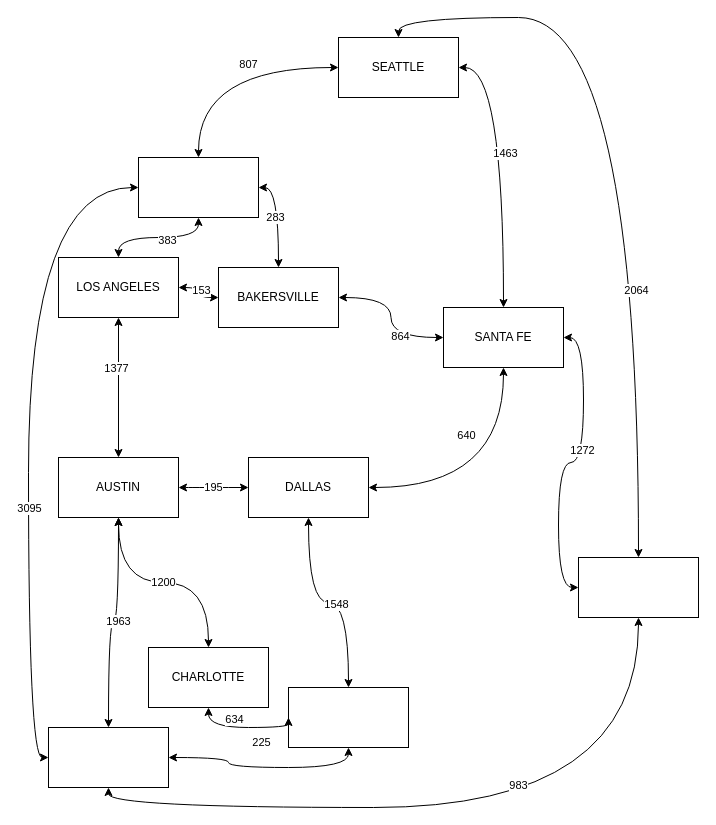
This 716x825 diagram has some shape labels left out. The centre of each missing label's shape, as x and y in pixels:
BOSTON: [108,757]
CHICAGO: [638,587]
NEW YORK: [348,717]
SAN FRANSISCO: [198,187]
